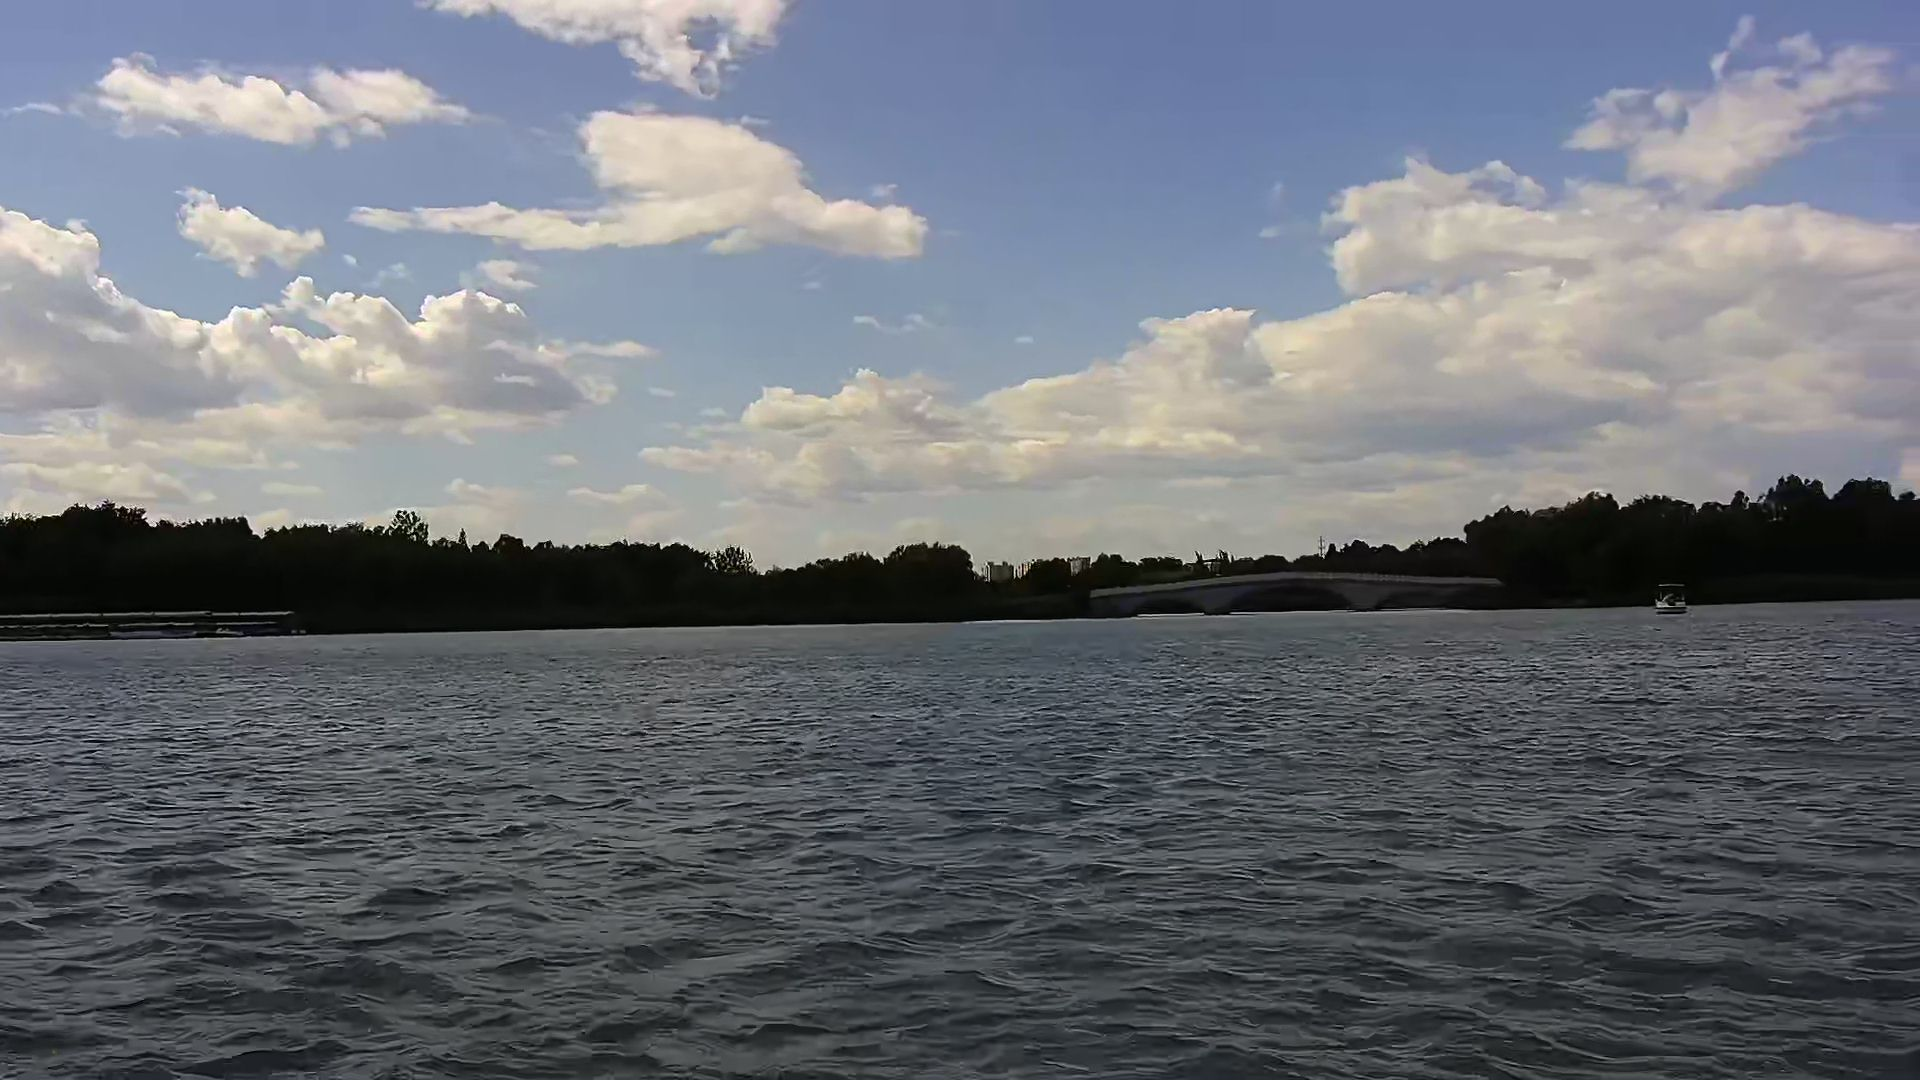boat: (1647, 574, 1700, 618)
bridge: (1083, 576, 1505, 617)
